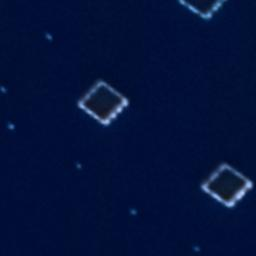square_solid: (198, 158, 256, 211), (75, 78, 132, 130), (175, 1, 231, 23)
